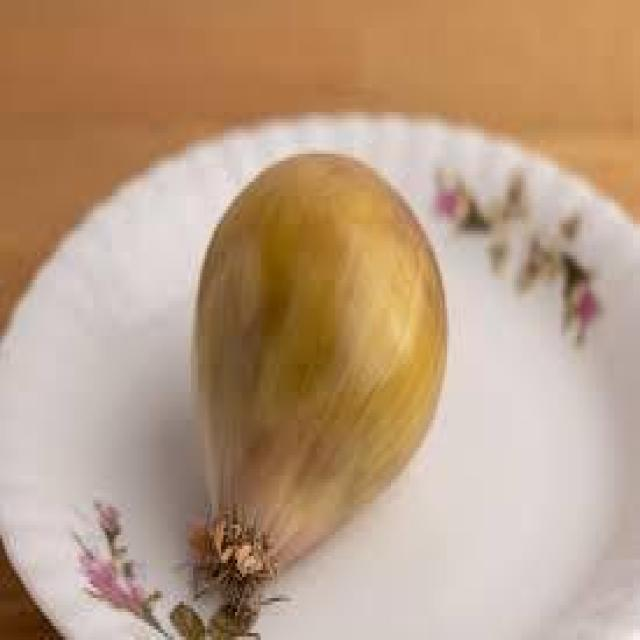Onion: (184, 147, 451, 622)
